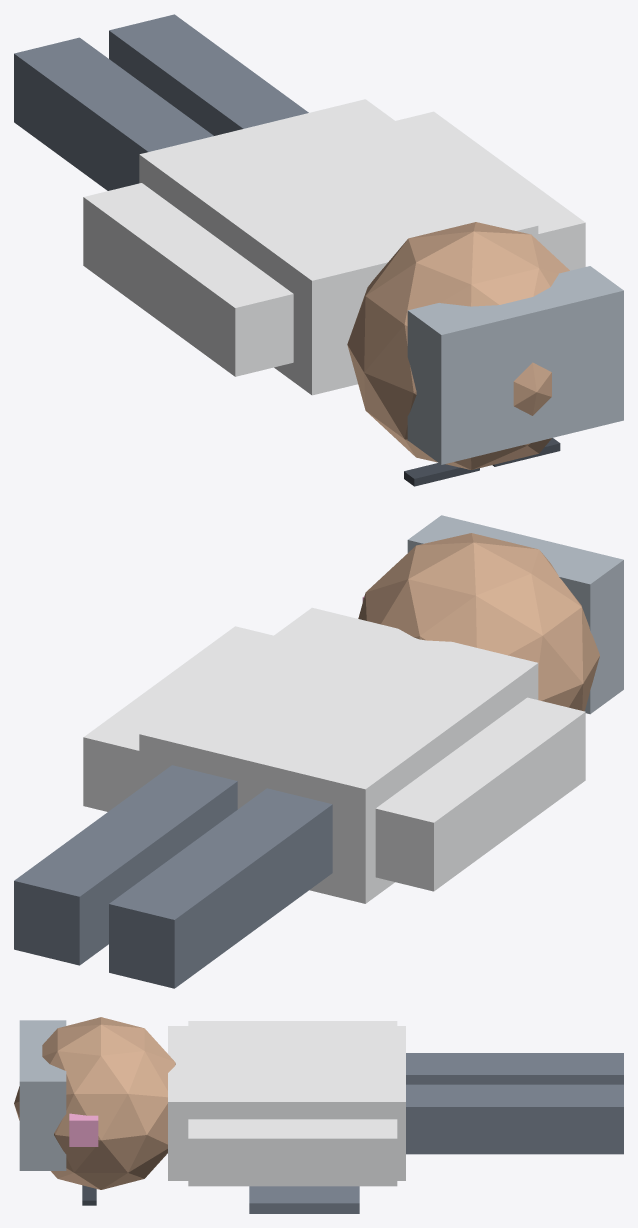
The model's file is researcher_variant_2.glb.
3 views of the same model, one above another, from view 1: azimuth 30°, elevation 25°; view 2: azimuth 150°, elevation 25°; view 3: azimuth 270°, elevation 25° (orthographic). The views are drawn at different scales.
Parts seen in each view (by area): view 1: torso_2, hair_6, arm_l_3, head_5, leg_l_0, leg_r_1, arm_r_4, glasses_l_8; view 2: torso_2, leg_l_0, arm_l_3, head_5, leg_r_1, arm_r_4, hair_6; view 3: torso_2, head_5, leg_r_1, arm_r_4, leg_l_0, hair_6, tablet_7, arm_l_3, earring_or_badge_10.
Part boxes in pixels (x1,y1,x2,y2): torso_2: [139, 99, 538, 395]; hair_6: [407, 266, 623, 464]; arm_l_3: [83, 183, 293, 376]; head_5: [347, 222, 569, 469]; leg_l_0: [14, 37, 213, 190]; leg_r_1: [109, 14, 308, 135]; arm_r_4: [396, 111, 585, 270]; glasses_l_8: [404, 463, 479, 486]; torso_2: [139, 607, 538, 903]; leg_l_0: [109, 788, 332, 988]; arm_l_3: [375, 697, 585, 891]; head_5: [358, 533, 599, 711]; leg_r_1: [14, 765, 237, 965]; arm_r_4: [83, 626, 273, 811]; hair_6: [407, 515, 623, 714]; torso_2: [168, 1026, 405, 1180]; head_5: [14, 1017, 175, 1189]; leg_r_1: [406, 1084, 623, 1154]; arm_r_4: [188, 1119, 397, 1186]; leg_l_0: [406, 1053, 623, 1084]; hair_6: [19, 1020, 66, 1170]; tablet_7: [249, 1186, 359, 1213]; arm_l_3: [188, 1021, 397, 1025]; earring_or_badge_10: [69, 1113, 98, 1146].
Size of the model in its own units: 0.96 by 0.6 by 2.1.
